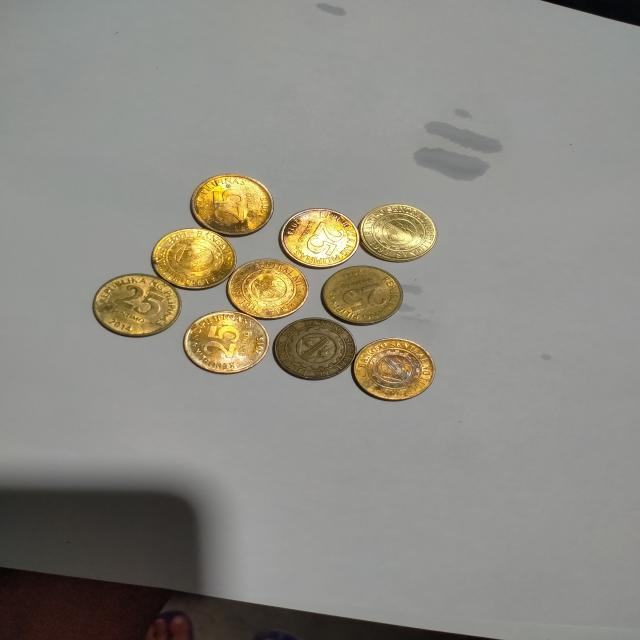25Cent_Old_Back: (155, 228, 234, 287), (361, 203, 432, 258)
25Cent_Old_Front: (101, 282, 165, 329)
